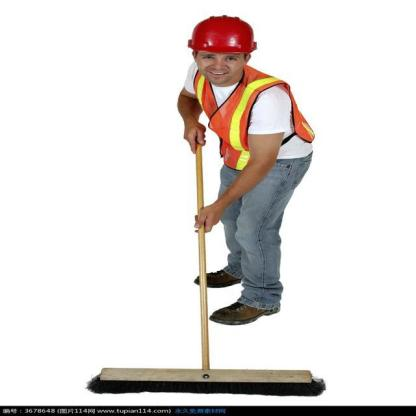bota: (207, 278, 283, 326), (194, 253, 243, 288)
capacete: (189, 15, 257, 86)
